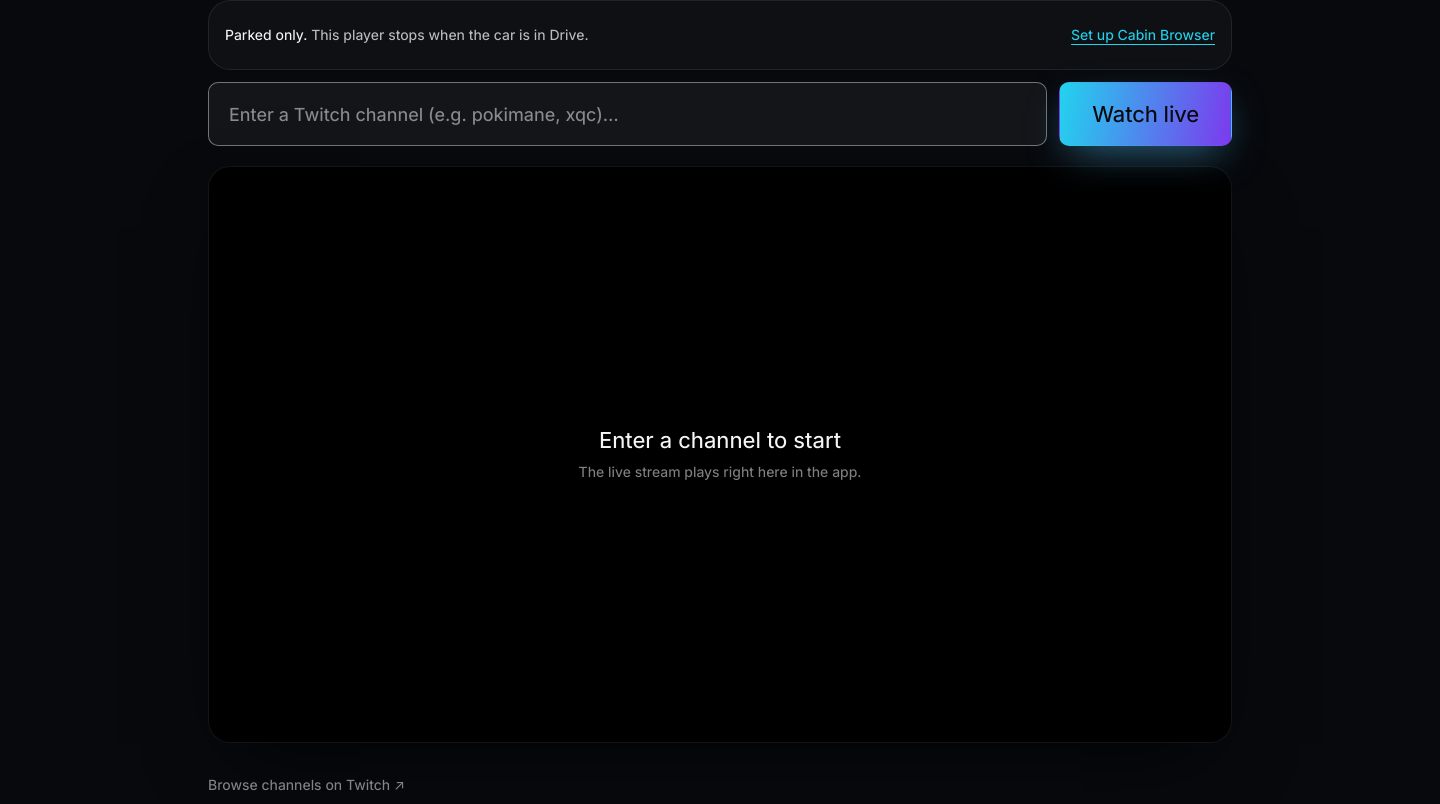
EmbedView (Twitch) › shows an accessible error and no player for a reserved word
Type "directory" into the field named "Twitch channel name" at (628, 114), box [208,82,1047,146]
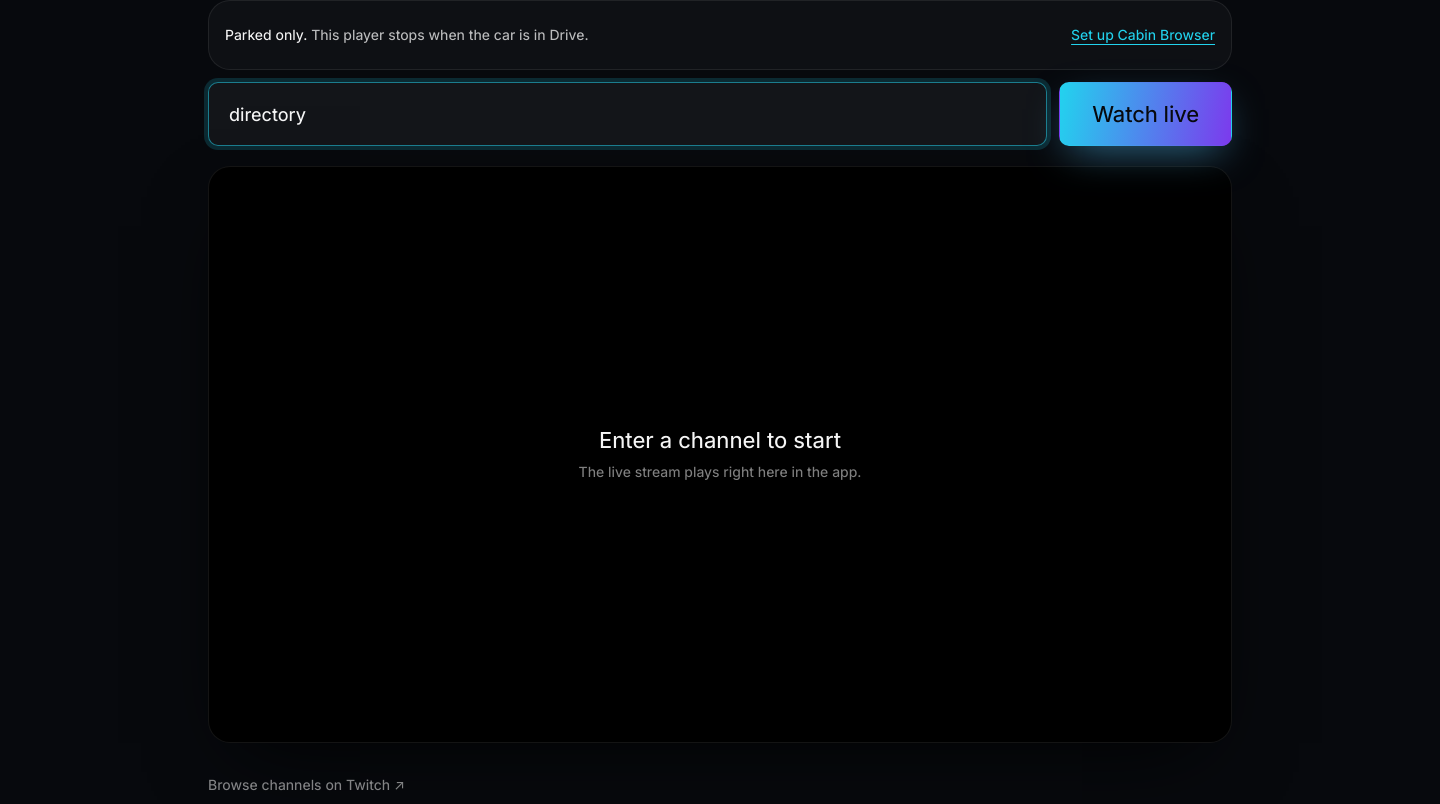
Click the button "Watch live" at (1146, 114), box [1059,82,1232,146]
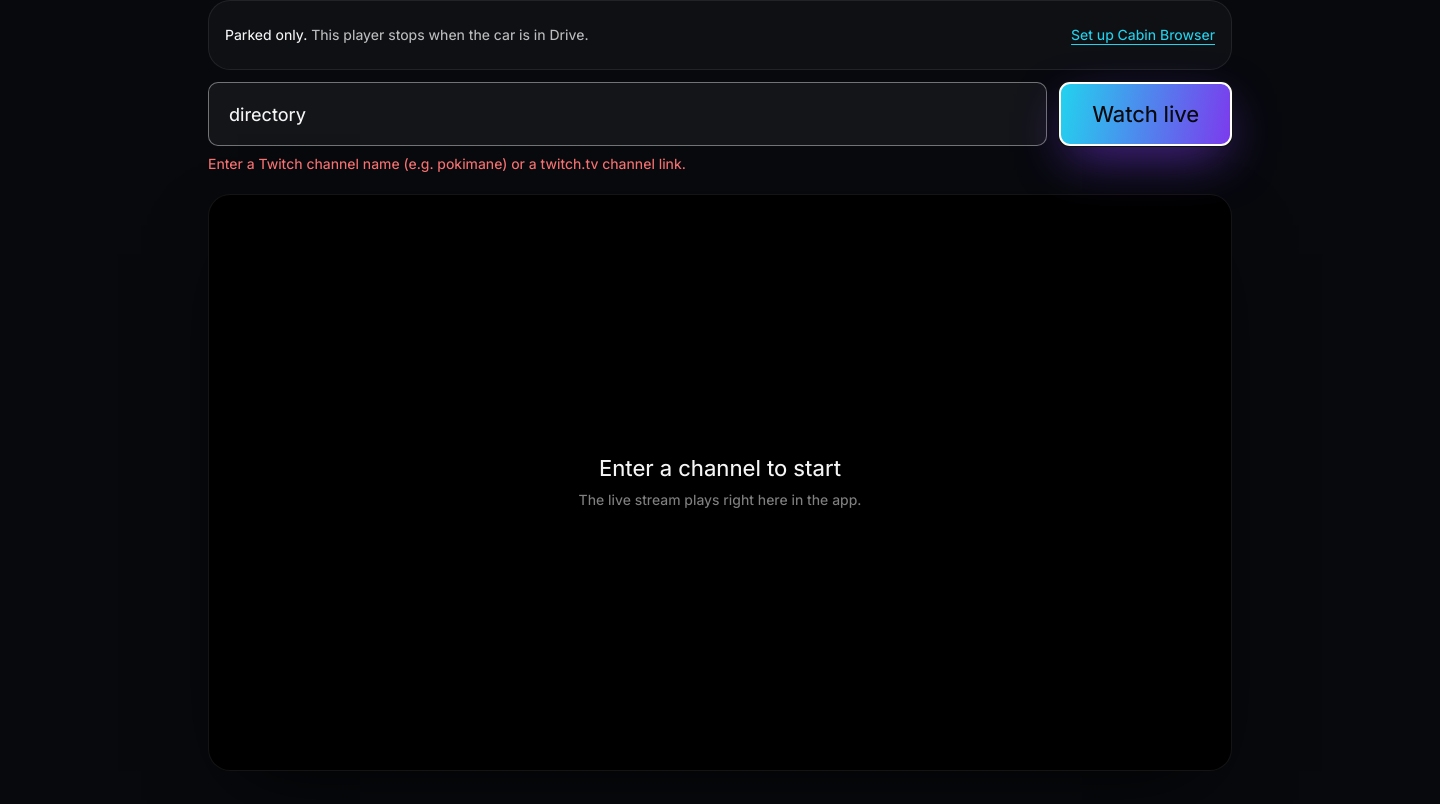
Check: the message shows "Twitch channel", box [208,155,686,172]
